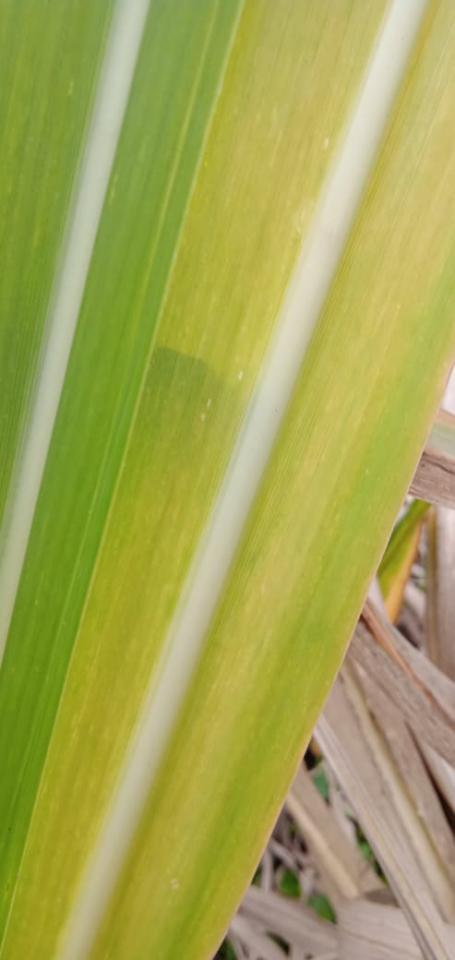Yellow: (0, 0, 394, 959), (87, 0, 454, 959)
